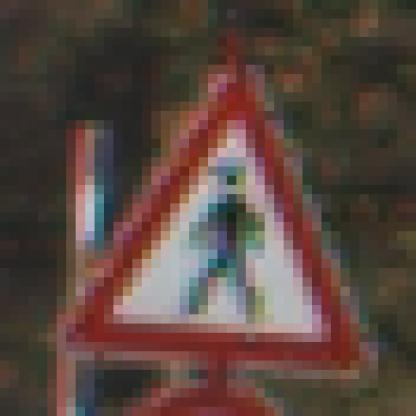crosswalk: (42, 36, 386, 402)
